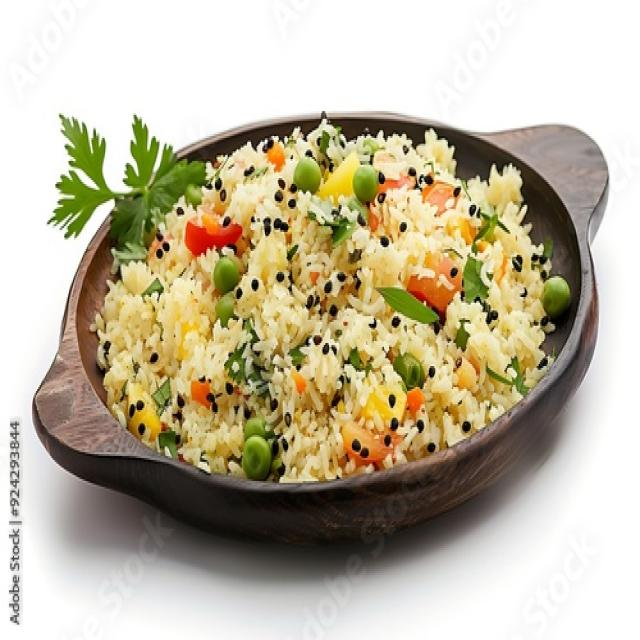UPMA: (90, 119, 570, 481)
